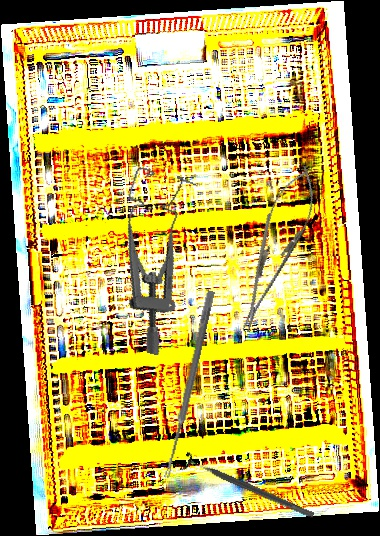Fixation Ring: (179, 450, 318, 526)
Needle Holder: (224, 159, 328, 339)
Speculum: (84, 163, 214, 357)
Surgical Spoon: (163, 289, 215, 480)
